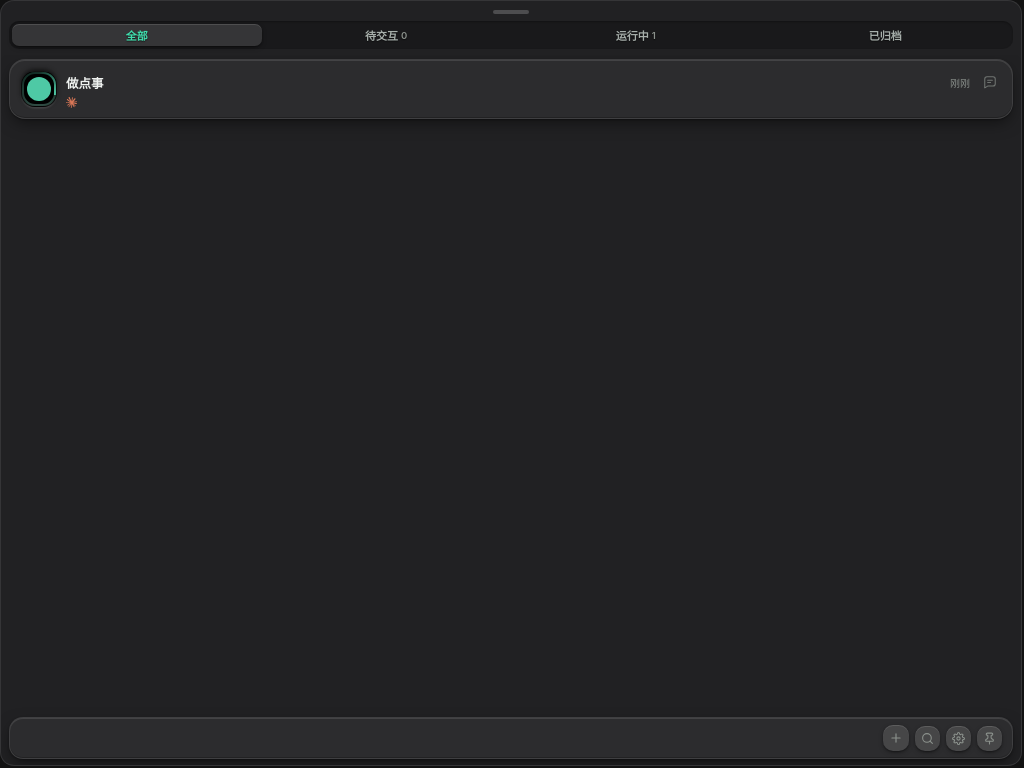
Test: Sticker › 点击菜单外部关闭菜单,且该次点击不触发卡片点击
# 先打开重命名编辑器作观察哨:卡片 onClick 若被触发会关闭编辑器。
Right-click the button with class "stk-card".
right_click(39, 89)  # box [9,59,1013,119]
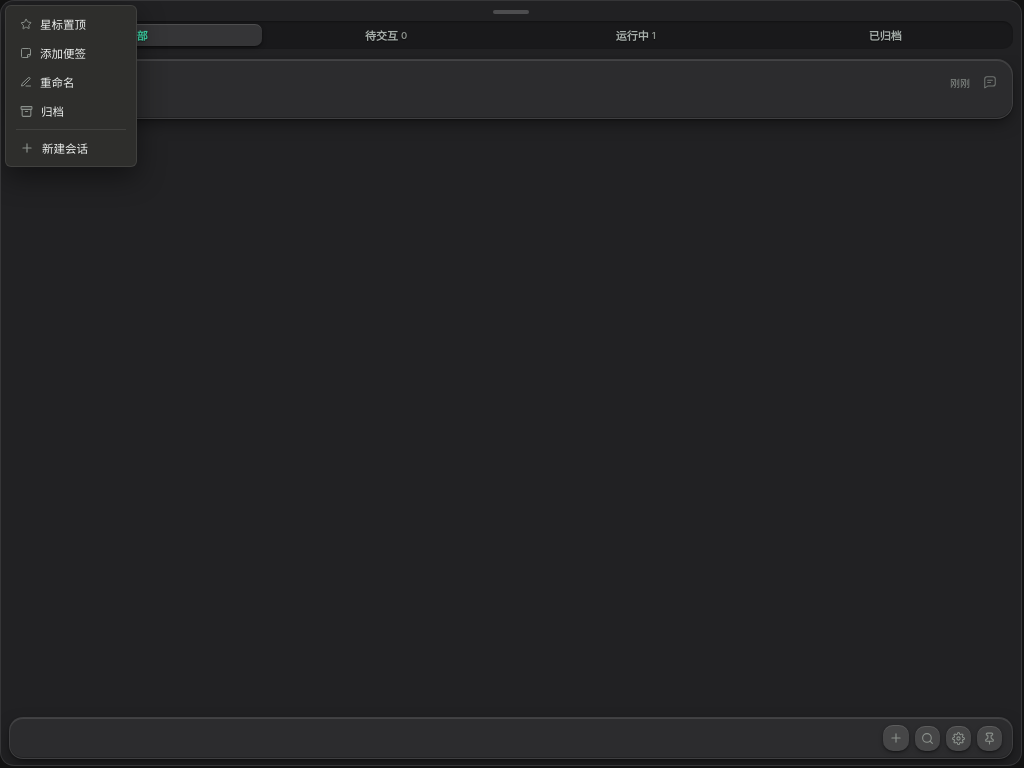
Click the menu item "重命名".
click(71, 82)  # box [10,68,132,96]
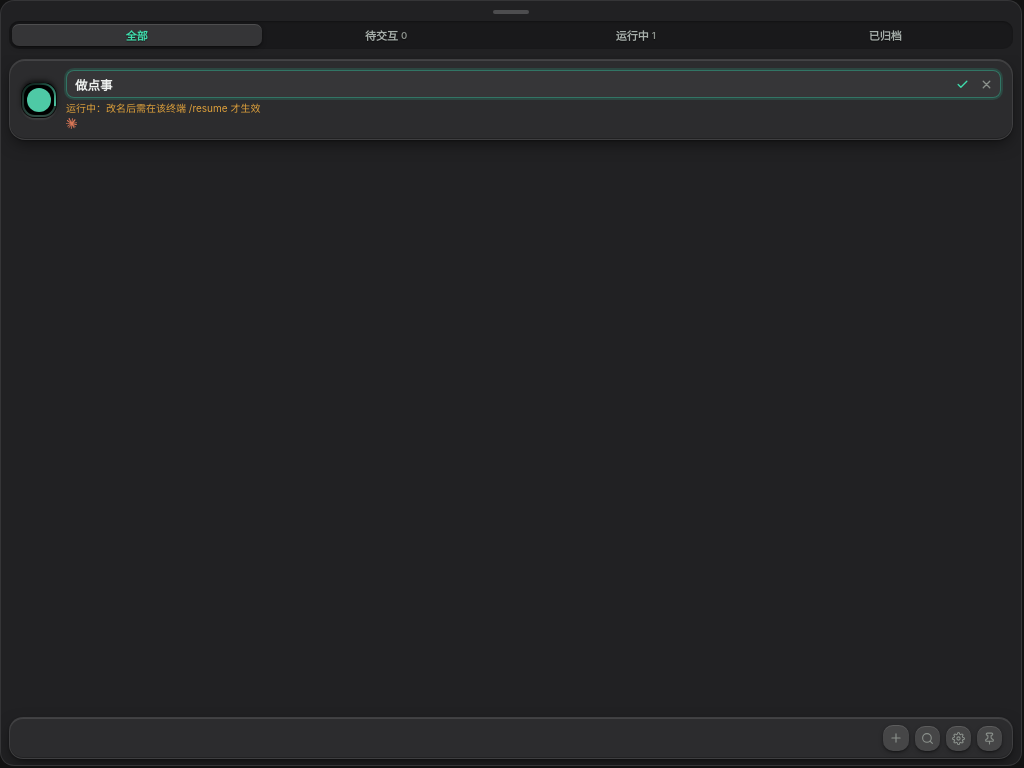
Expected: the field with class "stk-edit" is shown, [75,74,949,94]
Right-click the button with class "stk-card".
right_click(511, 100)  # box [9,59,1013,140]
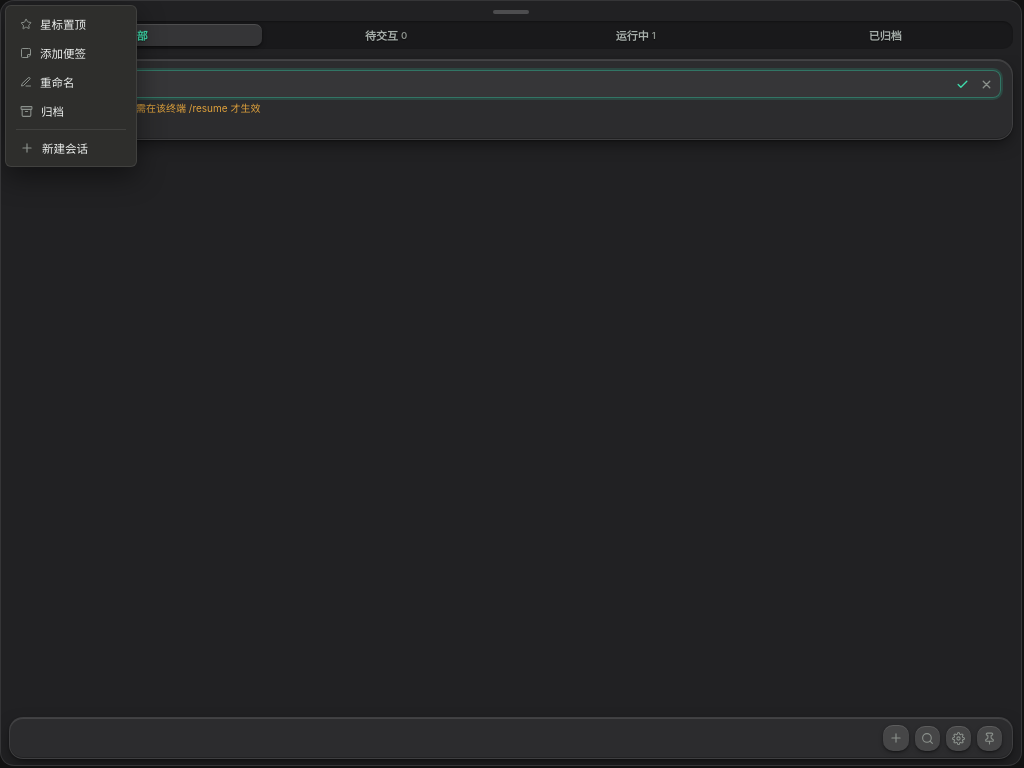
Expected: the menu with class "ctx-menu" is shown, [5,5,137,167]
Click the button with class "stk-card".
click(511, 100)  # box [9,59,1013,140]
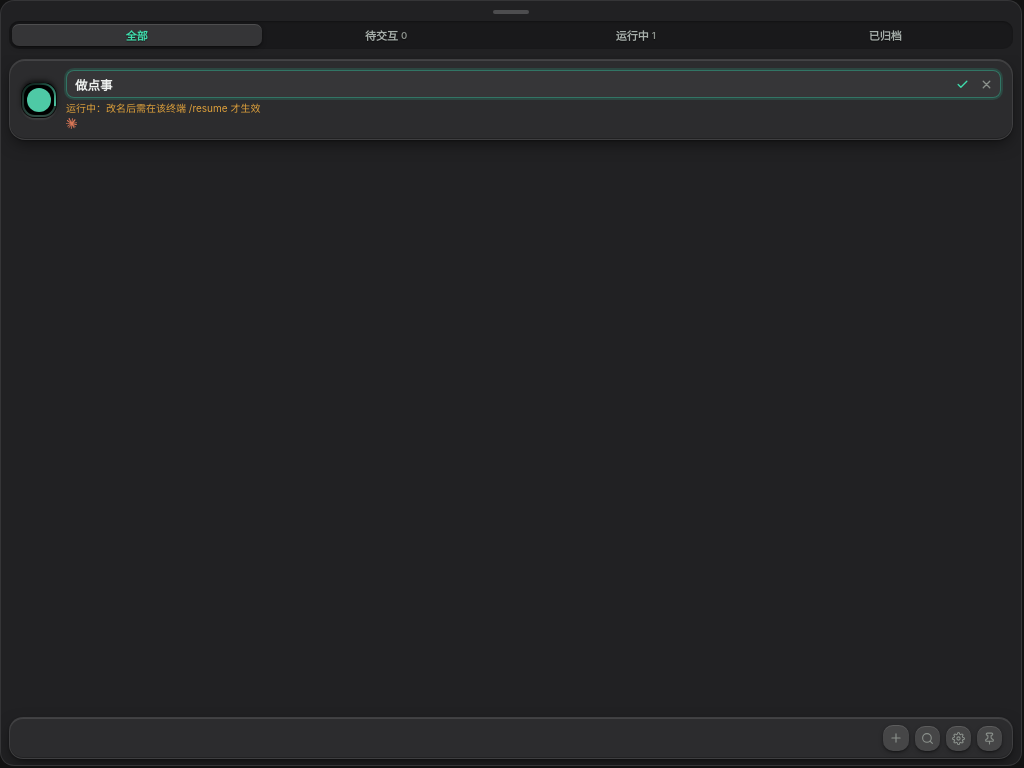
Expected: the field with class "stk-edit" is shown, [75,74,949,94]
Expected: the menu with class "ctx-menu" is gone
